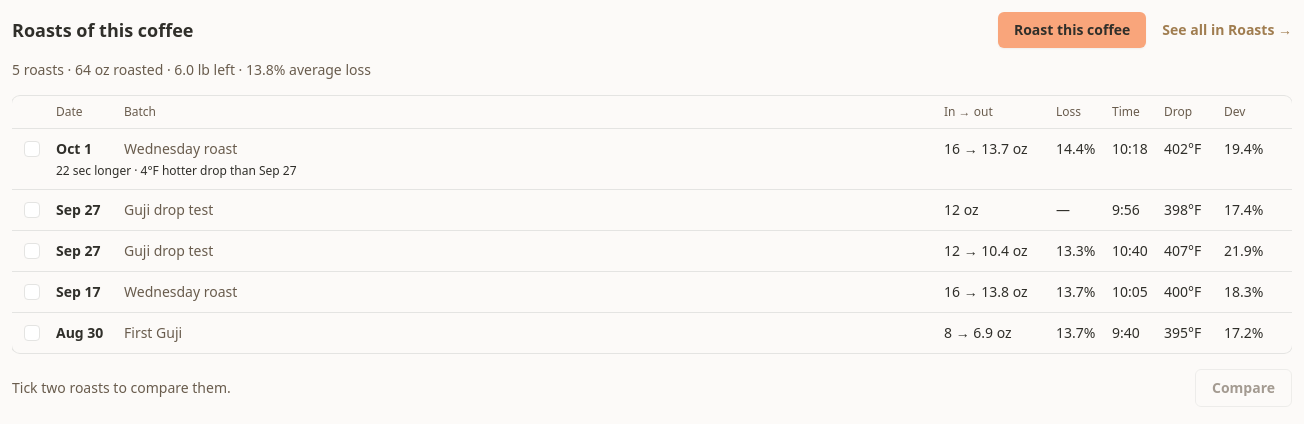
portfolio Roasting tab › keeps two rows ticked at most, dropping the earliest tick
Click the checkbox named "Compare roast #4507, Sep 17" at x=32, y=292, box [24, 284, 40, 300]
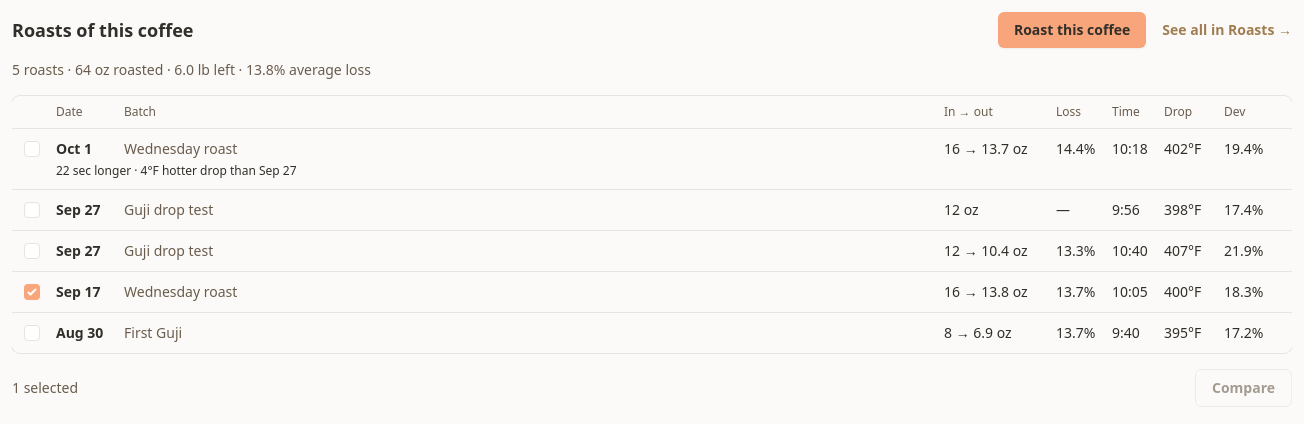
Click the checkbox named "Compare roast #4531, Oct 1" at x=32, y=149, box [24, 141, 40, 157]
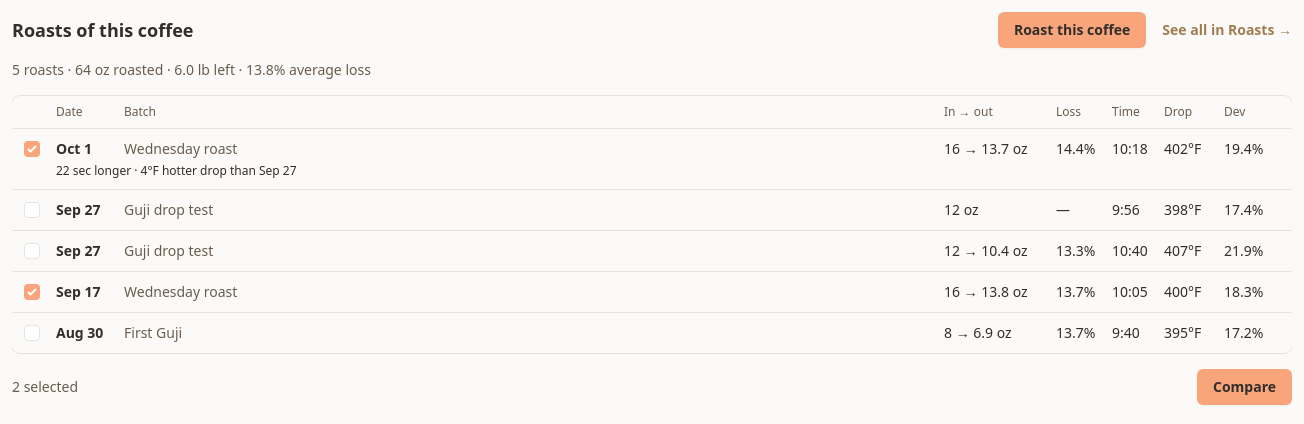
Click the checkbox named "Compare roast #4528, Sep 27" at x=32, y=251, box [24, 243, 40, 259]
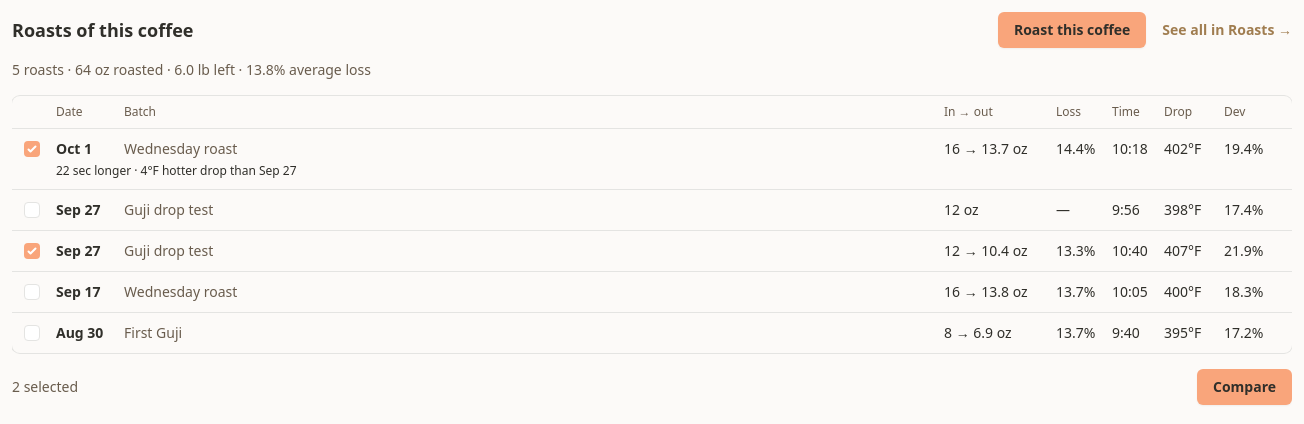
Click the checkbox named "Compare roast #4531, Oct 1" at x=32, y=149, box [24, 141, 40, 157]
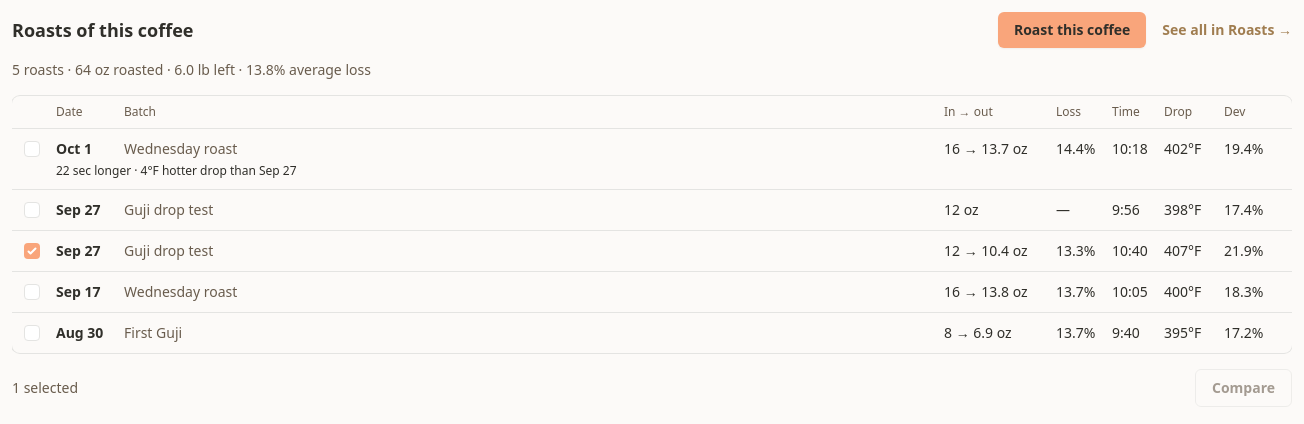
expect the text "1 selected" is shown: met, box [12, 378, 78, 398]
